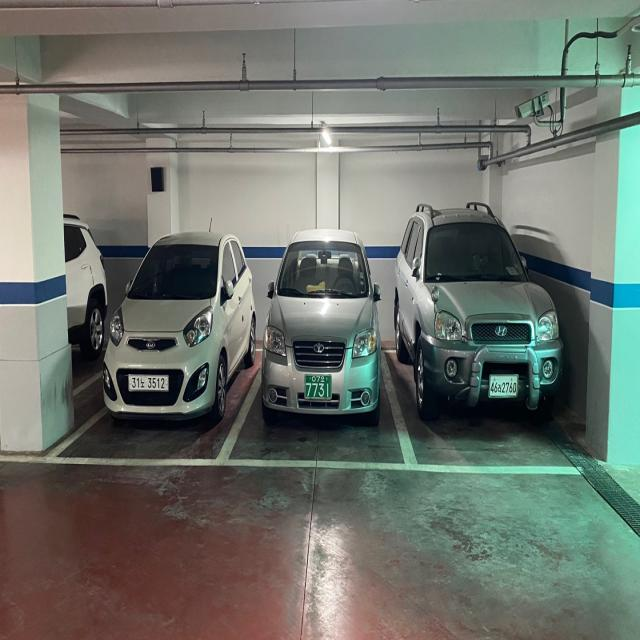occupied: (393, 204, 562, 417), (102, 227, 247, 422), (259, 232, 382, 432)
